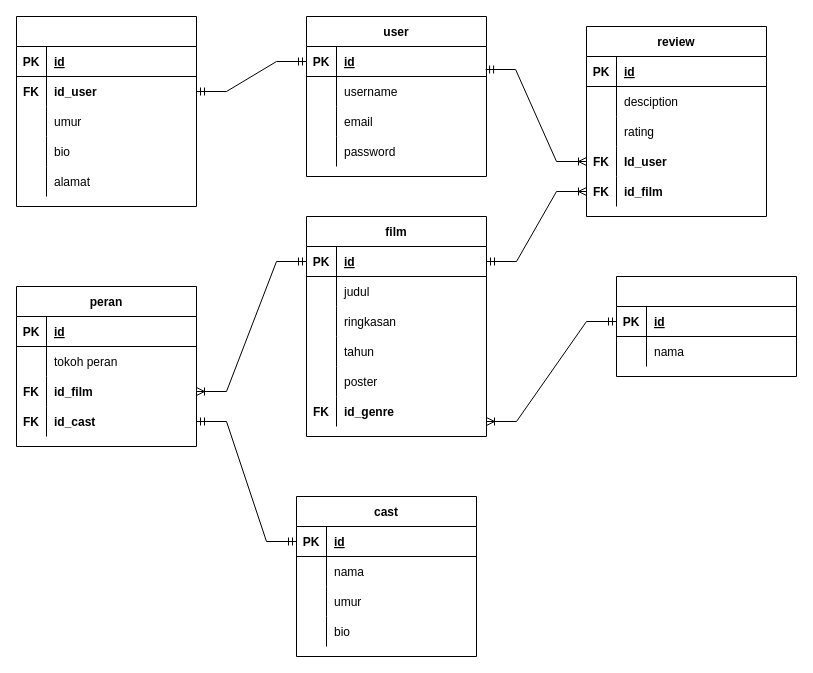
The diagram is 813 pixels wide and 673 high, and some of its shapes have lost their labels. The shapes that lost their labels are listed below. From the top down, each one's box as (x1, y1, x2, y2) in pixels, then its label:
(16, 16, 196, 206): profil
(616, 276, 796, 376): genre
